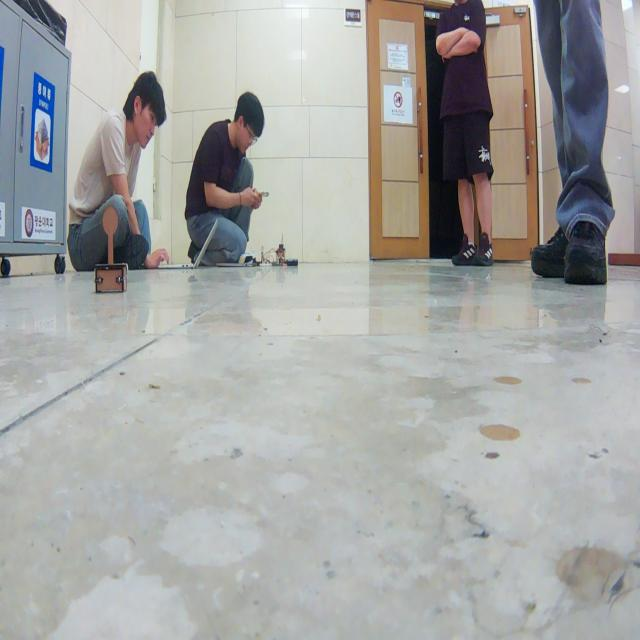target: (95, 204, 128, 294)
